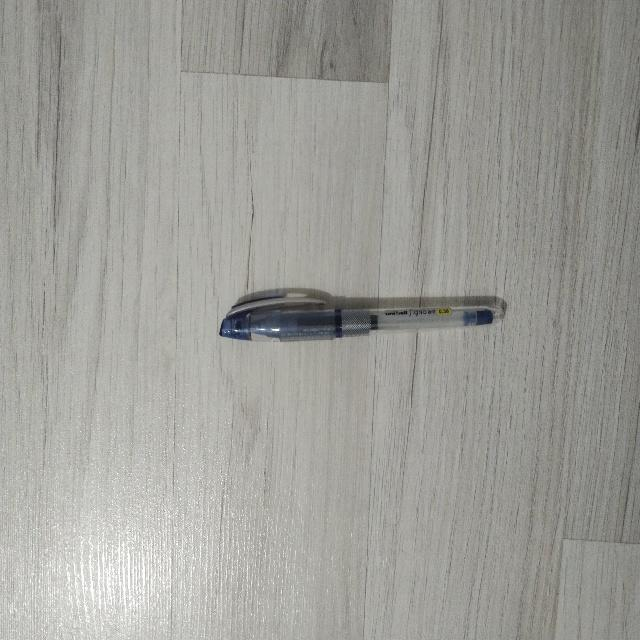pen: (220, 294, 503, 340)
